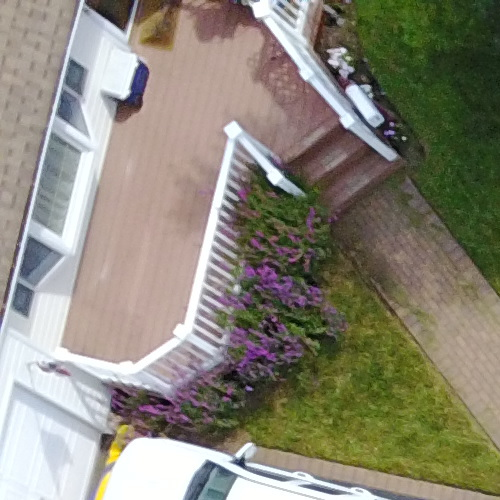container: (88, 39, 159, 120)
porch: (29, 7, 429, 434)
